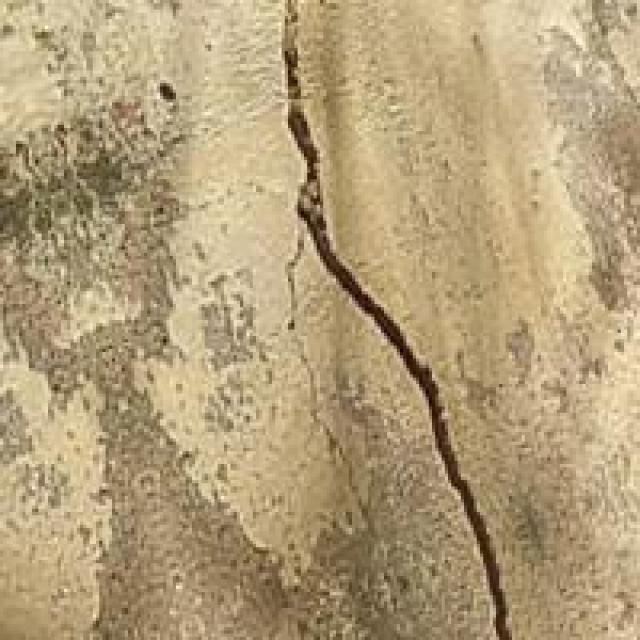crack: (237, 3, 544, 637)
